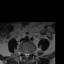CCS_stenosis: (26, 52, 27, 58)
LFS_normal: (29, 50, 31, 56)
LLS_normal: (27, 51, 29, 58)
RFS_normal: (22, 50, 24, 56)
RLS_normal: (24, 51, 26, 57)
